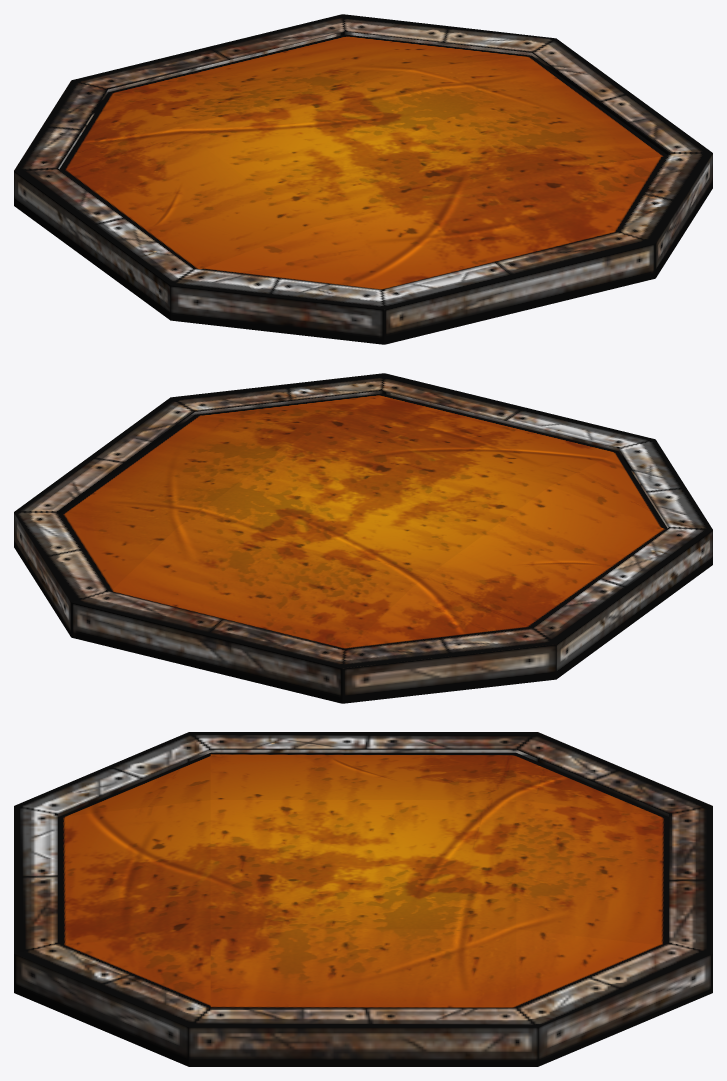
File: ingedrukt pressure plate.fbx
3 renders of one model, top to bottom at view 1: azimuth 30°, elevation 25°; view 2: azimuth 150°, elevation 25°; view 3: azimuth 270°, elevation 25°, orthographic. The views are drawn at different scales.
Parts seen in each view (by area): view 1: polySurface2, polySurface1; view 2: polySurface2, polySurface1; view 3: polySurface2, polySurface1.
Part boxes in pixels (x1,y1,x2,y2): polySurface2: [59, 34, 667, 289]; polySurface1: [14, 14, 712, 344]; polySurface2: [59, 393, 667, 648]; polySurface1: [14, 373, 712, 703]; polySurface2: [58, 752, 668, 1007]; polySurface1: [14, 732, 712, 1066].
Size of the model in its own units: 2.85 by 0.2456 by 2.85.
